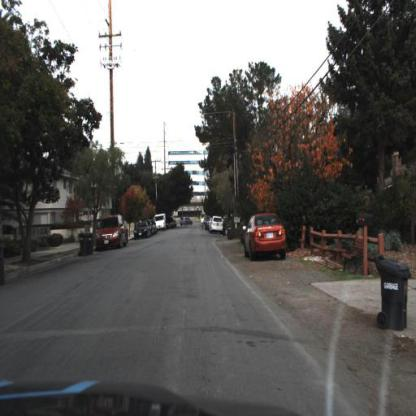biker: (200, 215, 205, 231)
car: (246, 213, 290, 264), (98, 216, 128, 250), (134, 223, 150, 241), (210, 218, 226, 235), (156, 214, 168, 230), (179, 217, 193, 227), (168, 218, 176, 229)
